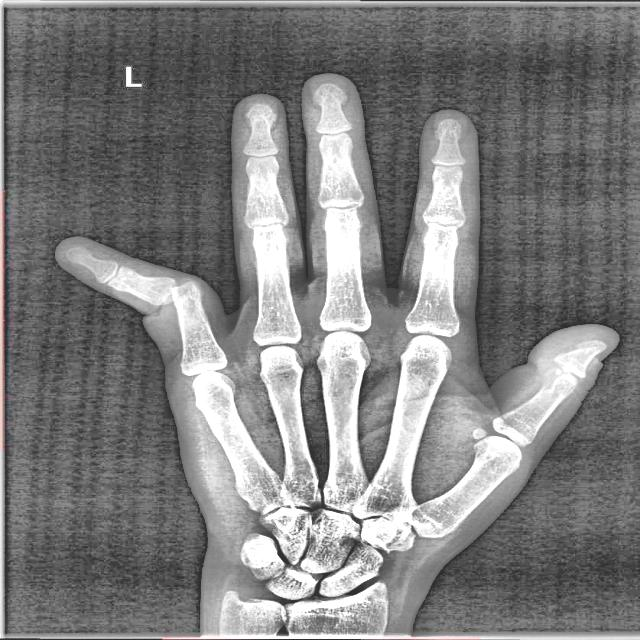fracture: (156, 278, 196, 308)
